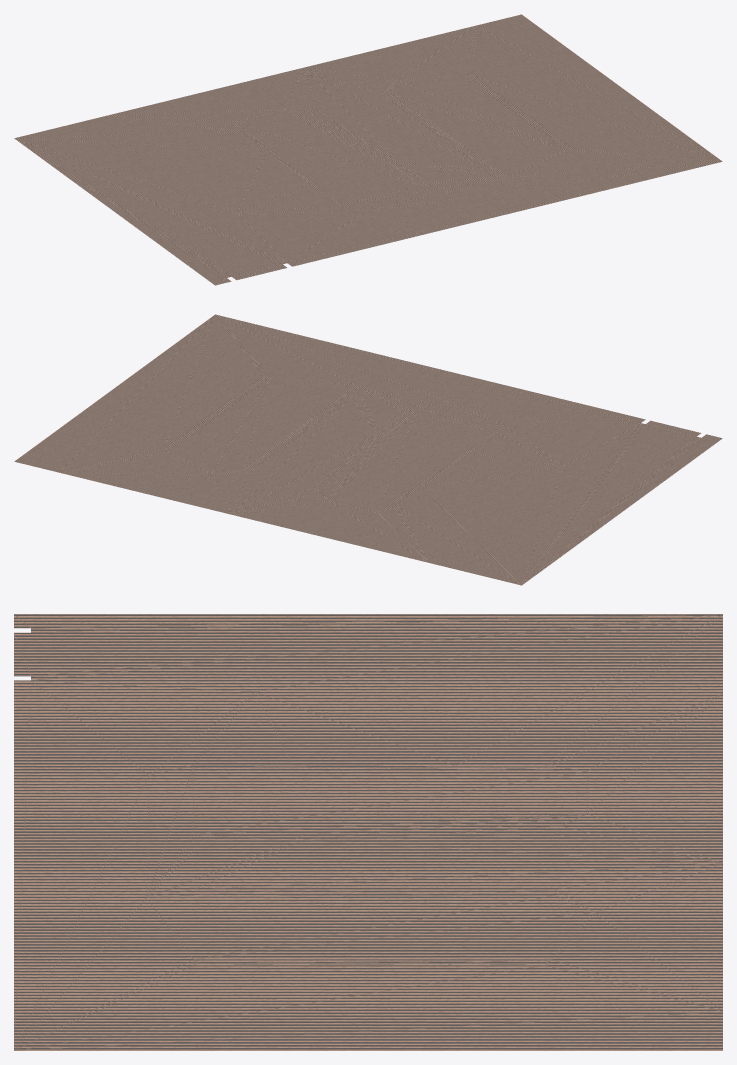
File: physicslabfloor.glb
3 views of the same model, one above another, from view 1: azimuth 30°, elevation 25°; view 2: azimuth 150°, elevation 25°; view 3: azimuth 270°, elevation 25° (orthographic). The views are drawn at different scales.
Parts seen in each view (by area): view 1: floor; view 2: floor; view 3: floor.
Part boxes in pixels (left/top/right/bottom): floor: left=14, top=14, right=722, bottom=285; floor: left=14, top=314, right=722, bottom=585; floor: left=14, top=614, right=722, bottom=1050.
Size of the model in its own units: 9.05 by 2.09e-06 by 6.21.
1 material, 1 textured.
